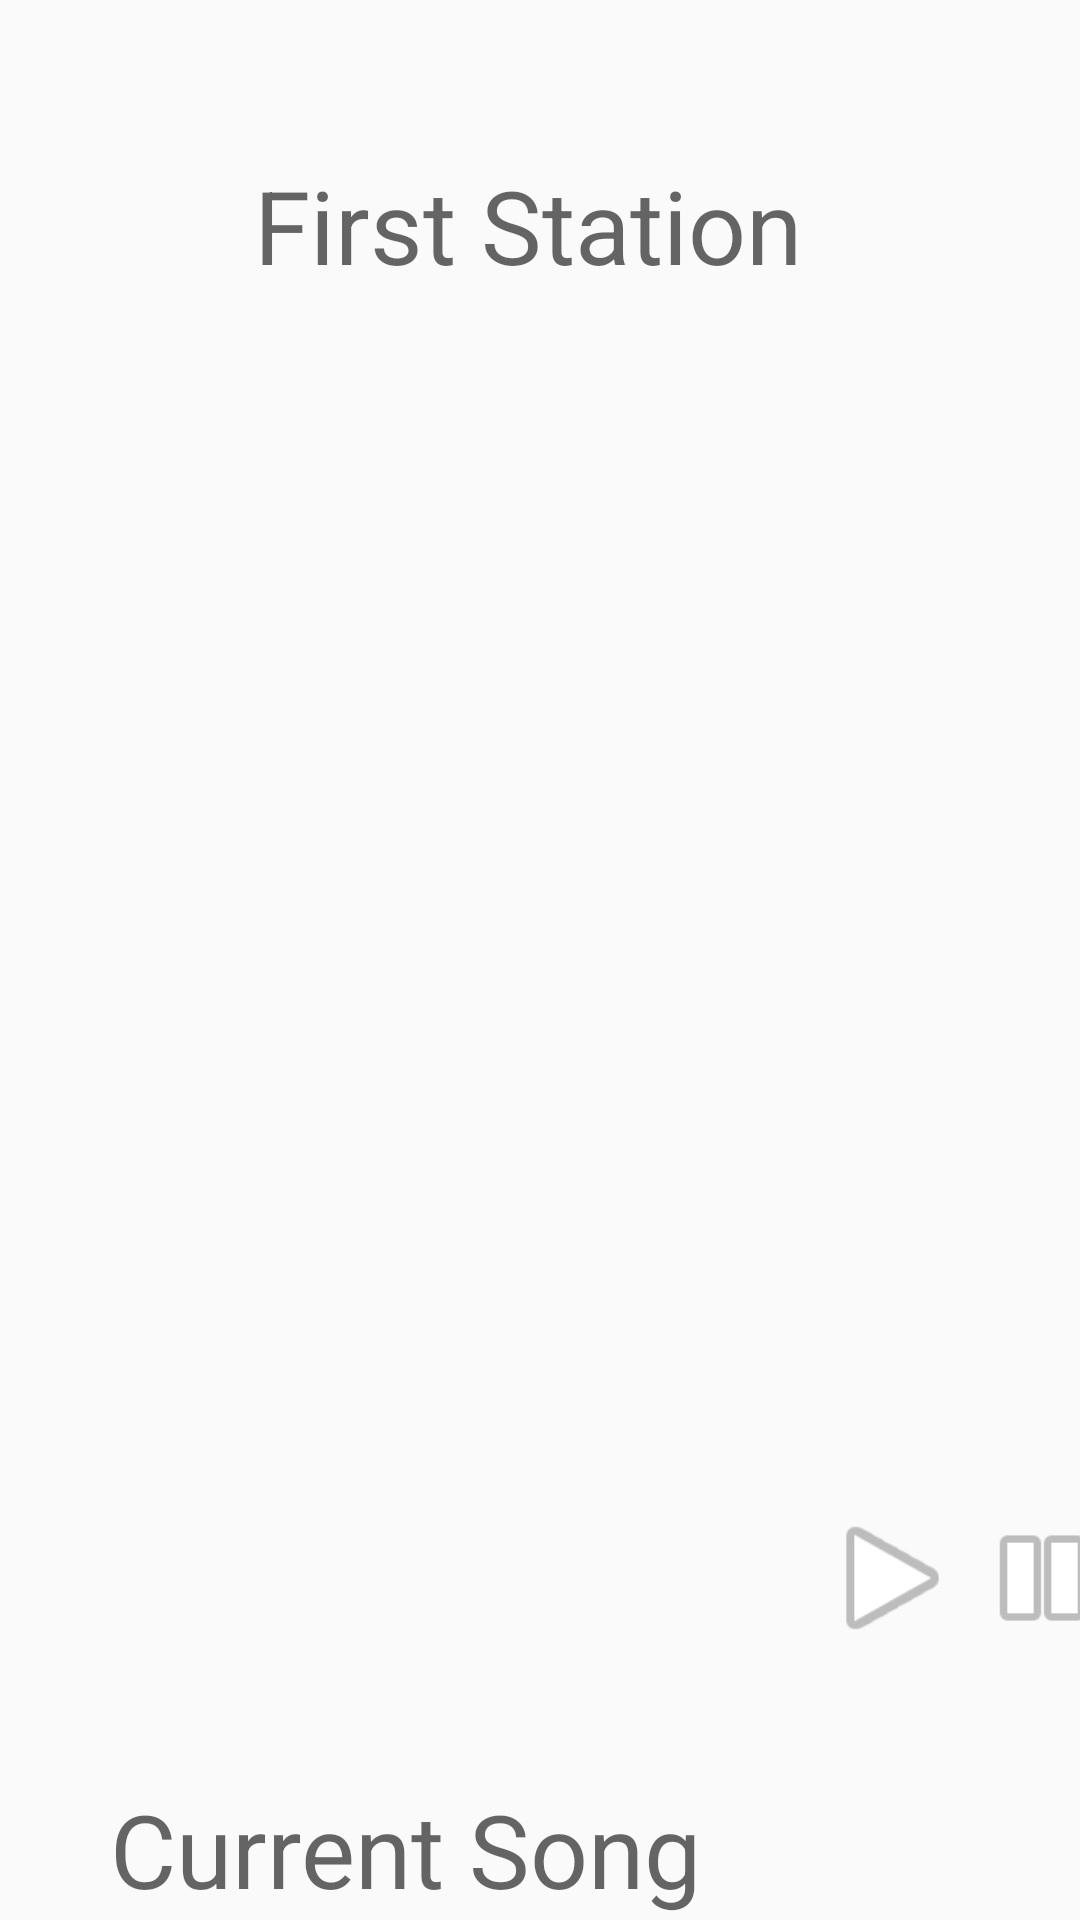

Where icons sit on this 1080w x 1920h app screen, as [x1=x1, y1=y1, x2=x2, y2=y2]:
play: [x1=846, y1=1527, x2=939, y2=1629]
